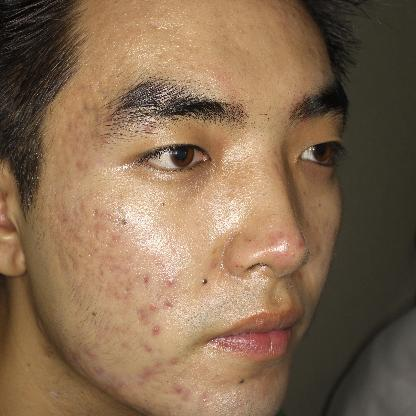Blackheads: (195, 270, 214, 293)
Papules: (157, 271, 183, 295)
pustules: (115, 212, 137, 231)
